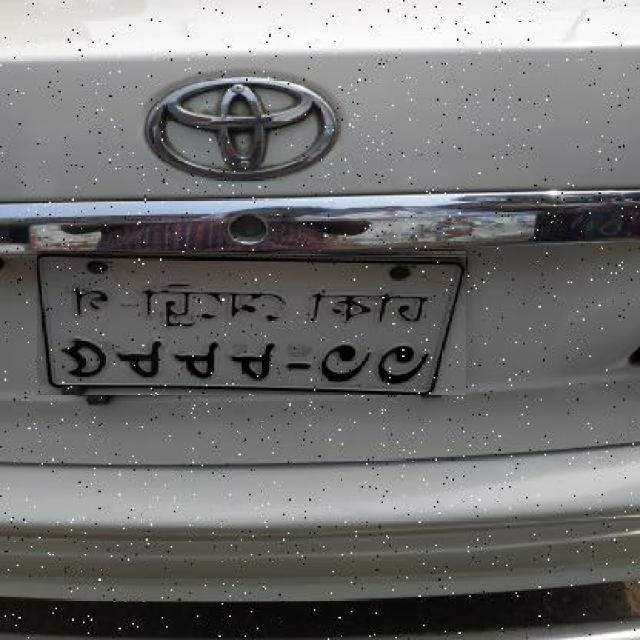numberplate: (37, 251, 466, 395)
